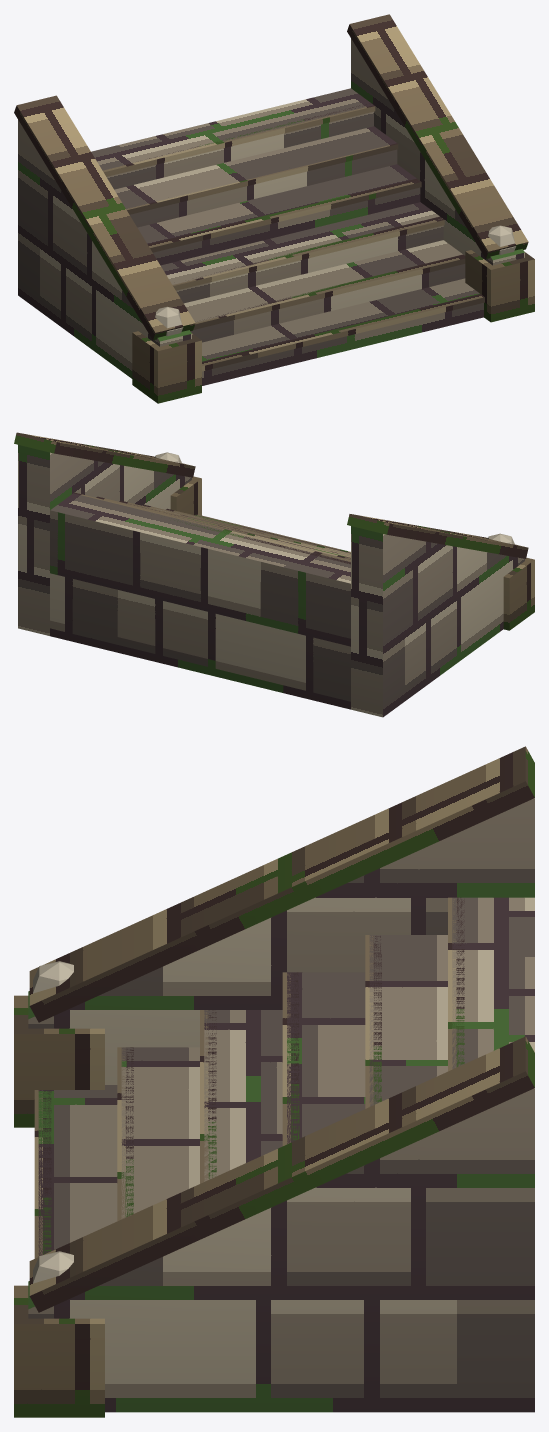
The model's file is scene_stair_b7.glb.
The picture shows the model from 3 angles, top to bottom: view 1: azimuth 30°, elevation 25°; view 2: azimuth 150°, elevation 25°; view 3: azimuth 270°, elevation 25°; orthographic projection. The views are drawn at different scales.
Visible parts, largest first — view 1: scene_stair_b7; view 2: scene_stair_b7; view 3: scene_stair_b7.
Part boxes in pixels (x1,y1,x2,y2): scene_stair_b7: [14, 14, 534, 403]; scene_stair_b7: [14, 432, 534, 717]; scene_stair_b7: [14, 746, 534, 1417].
Bounding box in the file's own units: 3.76 × 1.84 × 2.52.
Materials: 2 (1 with a texture image).
